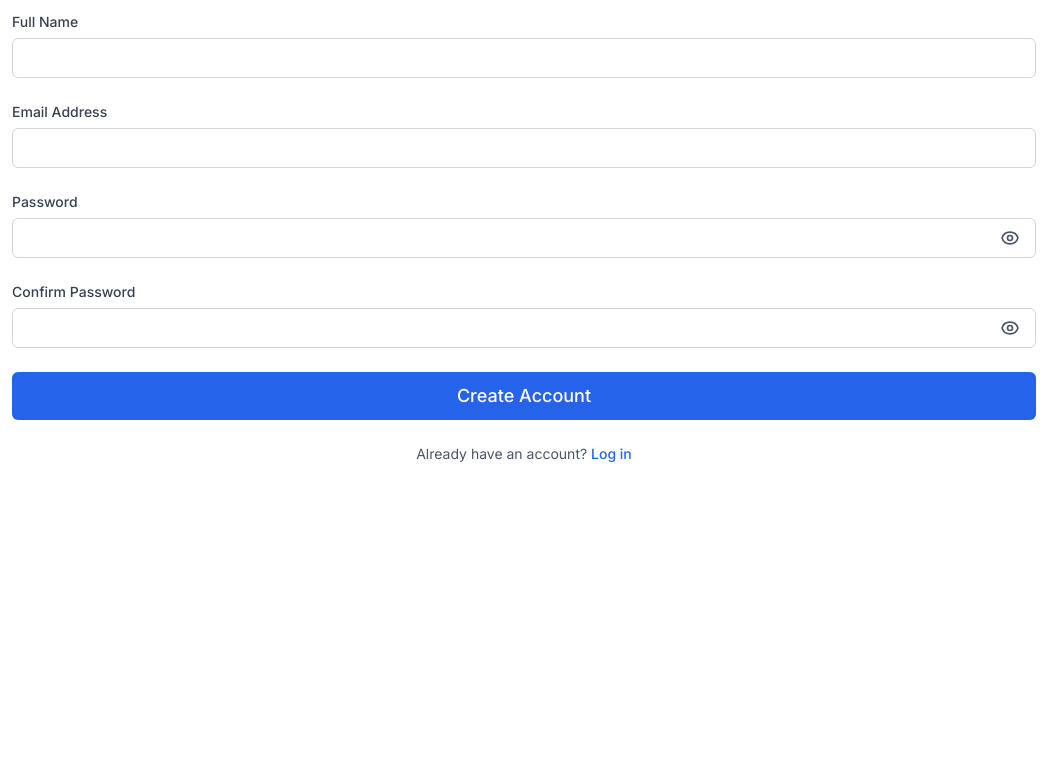
Test: RegistrationForm - Integration Tests (Fix Form Submission) › 6.2: Registration form submission flow › should show password strength indicator when user types
# Start typing password
Type "SecurePass123!" into the password field labelled "Password". click: (524, 238)
box: [12, 218, 1036, 258]
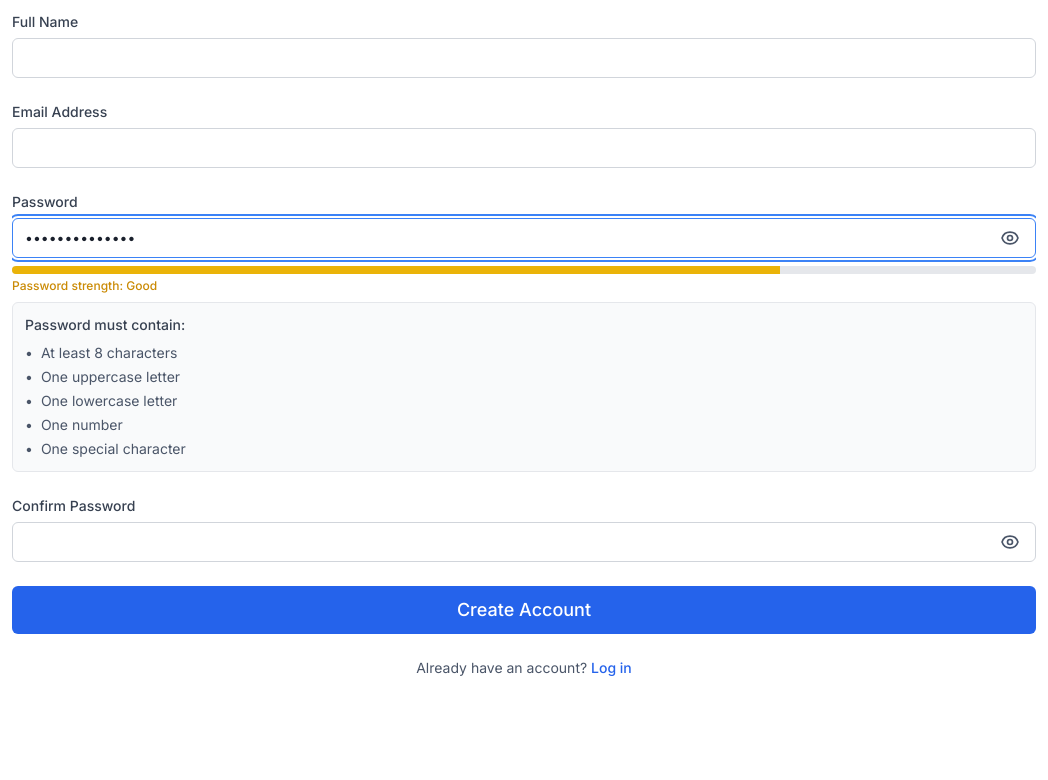
Now the message labelled "Password strength: Good" is shown, box [12, 266, 1036, 294]
